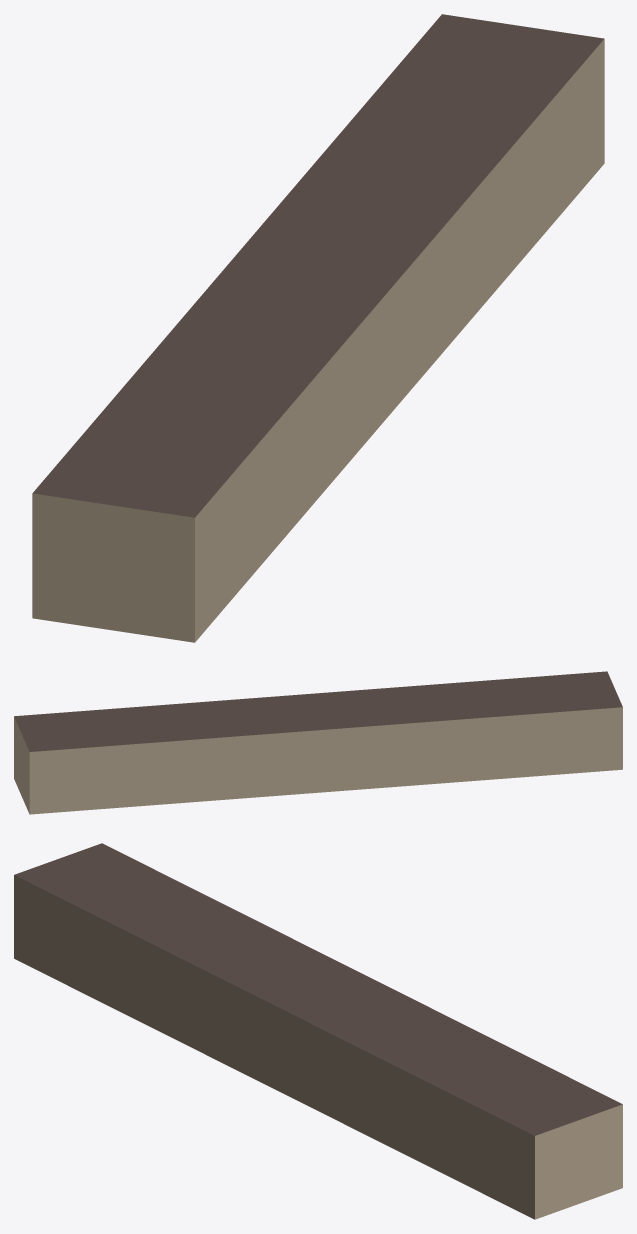
3 views of the same model, one above another, from view 1: azimuth 30°, elevation 25°; view 2: azimuth 150°, elevation 25°; view 3: azimuth 270°, elevation 25° (orthographic). The views are drawn at different scales.
Parts seen in each view (by area): view 1: HP-w859488715; view 2: HP-w859488715; view 3: HP-w859488715.
Part boxes in pixels (<box>): HP-w859488715: <box>32,14,604,642</box>; HP-w859488715: <box>14,671,622,814</box>; HP-w859488715: <box>14,843,622,1219</box>.
Bounding box in the file's own units: 67.44 × 9 × 59.28.
